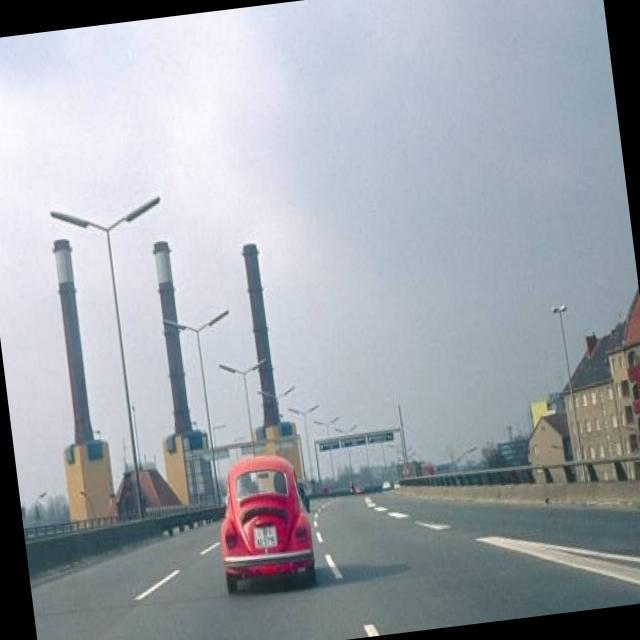car: (212, 446, 315, 586)
